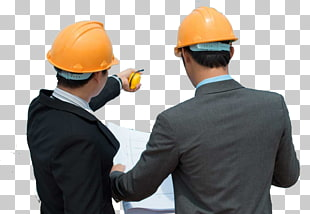casco: (45, 20, 120, 81), (173, 6, 239, 62)
